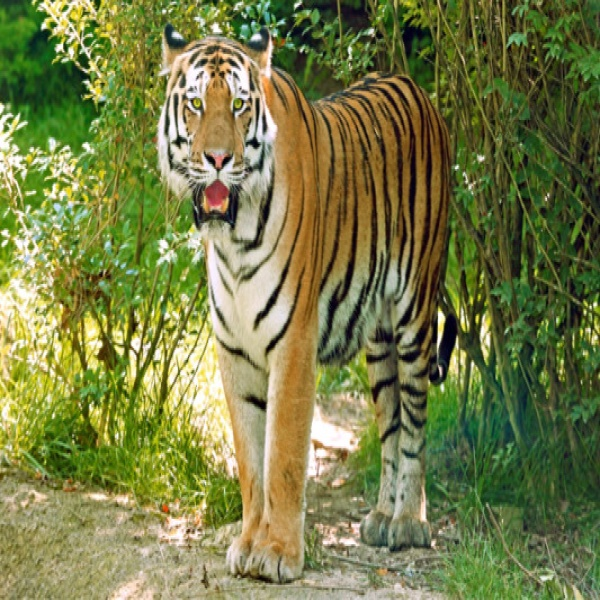Tiger: (152, 22, 464, 588)
